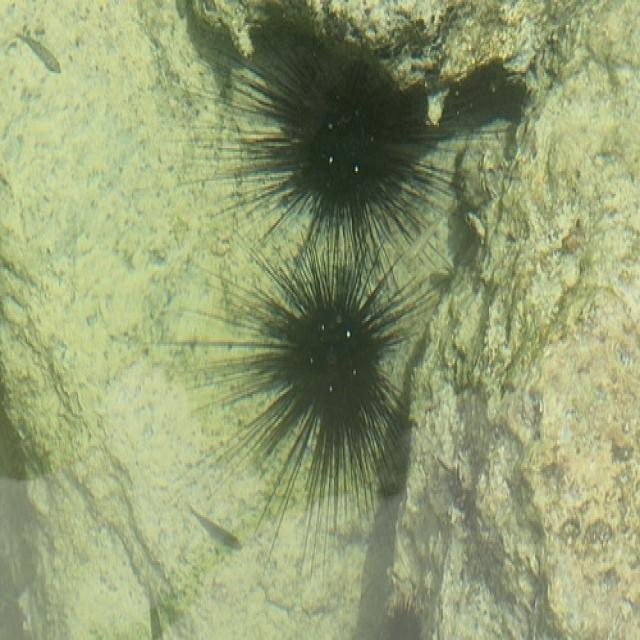Urchin: (174, 234, 424, 580), (172, 25, 469, 258)
